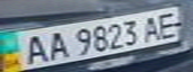2: (106, 20, 127, 51)
3: (121, 17, 145, 47)
8: (90, 23, 112, 53)
9: (69, 25, 93, 56)
A: (15, 32, 51, 65), (42, 28, 72, 61), (136, 12, 166, 43)
E: (151, 8, 187, 39)
